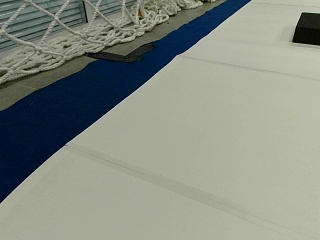block: (292, 11, 319, 44)
